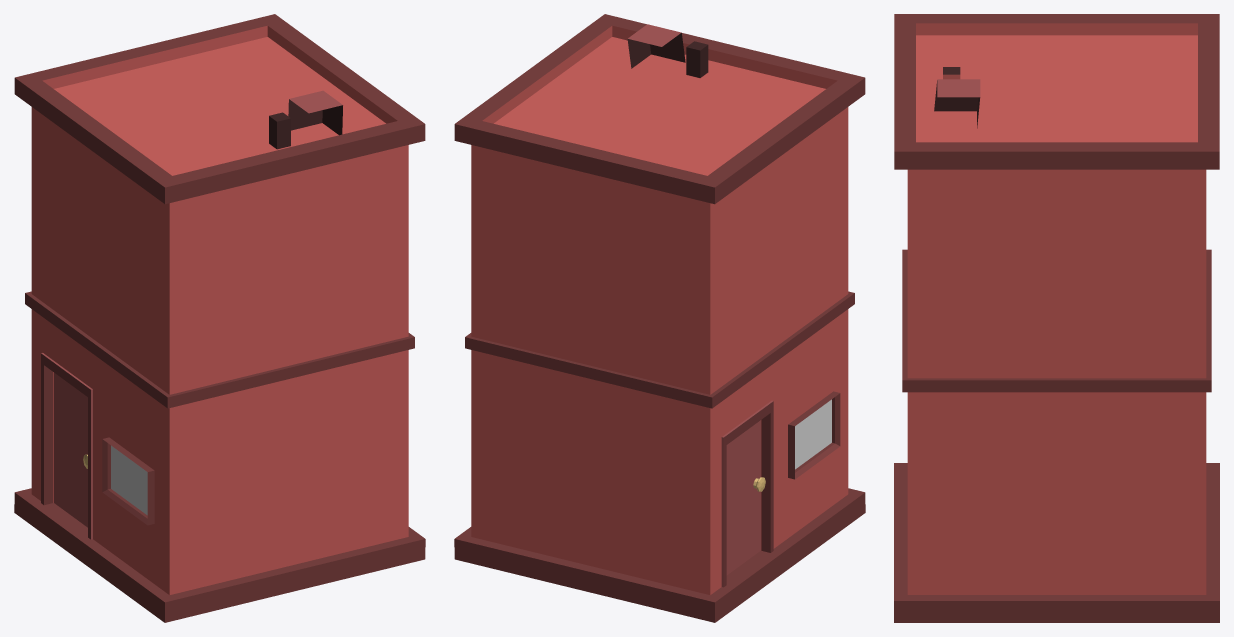
File: casa_vermelha.fbx
3 renders of one model, left to right at view 1: azimuth 30°, elevation 25°; view 2: azimuth 150°, elevation 25°; view 3: azimuth 270°, elevation 25°, orthographic. The views are drawn at different scales.
Visible parts, largest first — view 1: Cube, Cube.001; view 2: Cube, Cube.001; view 3: Cube.
Boxes of the visible parts, <box> form: Cube: <box>14,14,425,622</box>; Cube.001: <box>111,445,147,515</box>; Cube: <box>454,14,865,622</box>; Cube.001: <box>795,399,831,469</box>; Cube: <box>894,14,1219,622</box>.
Bounding box in the file's own units: 416 × 693 × 416.
